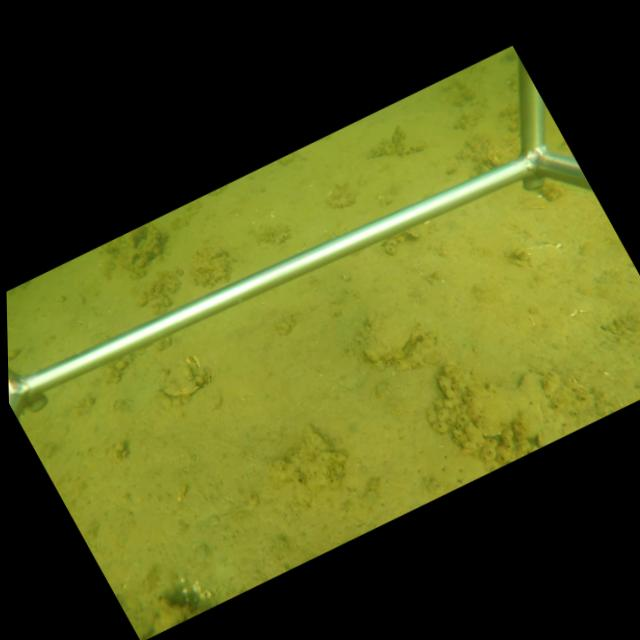Oyster-Closed: (363, 310, 418, 365)
Oyster-Indeterminate: (163, 364, 203, 400)
